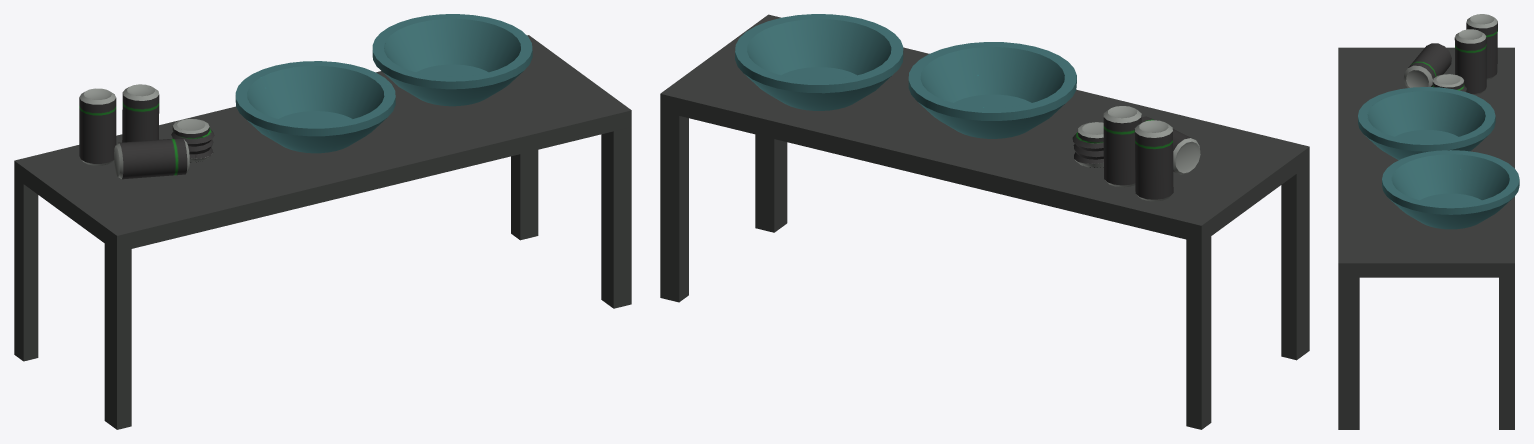
The model's file is mesa.fbx.
The picture shows the model from 3 angles, left to right: view 1: azimuth 30°, elevation 25°; view 2: azimuth 150°, elevation 25°; view 3: azimuth 270°, elevation 25°; orthographic projection. The views are drawn at different scales.
Parts seen in each view (by area): view 1: Cylinder.001; view 2: Cylinder.001; view 3: Cylinder.001.
Part boxes in pixels (bbox=[...]): Cylinder.001: bbox=[14, 14, 631, 429]; Cylinder.001: bbox=[660, 14, 1309, 429]; Cylinder.001: bbox=[1338, 14, 1519, 429].
Size of the model in its own units: 578 by 278 by 205.
